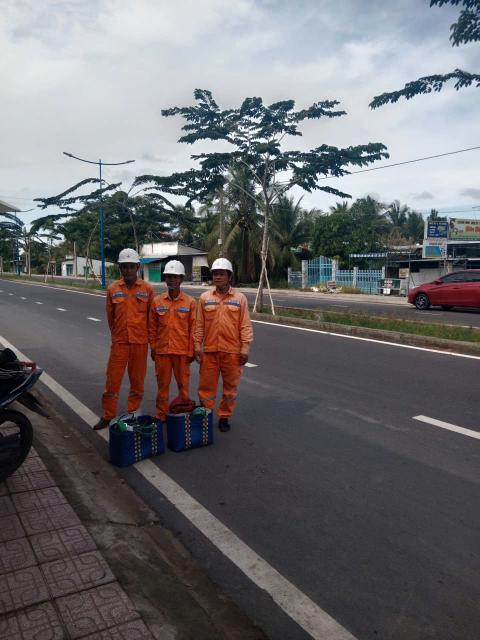helmet: (114, 246, 145, 264), (211, 257, 236, 275), (162, 260, 187, 275)
shoes: (214, 414, 235, 435), (88, 416, 112, 430)
